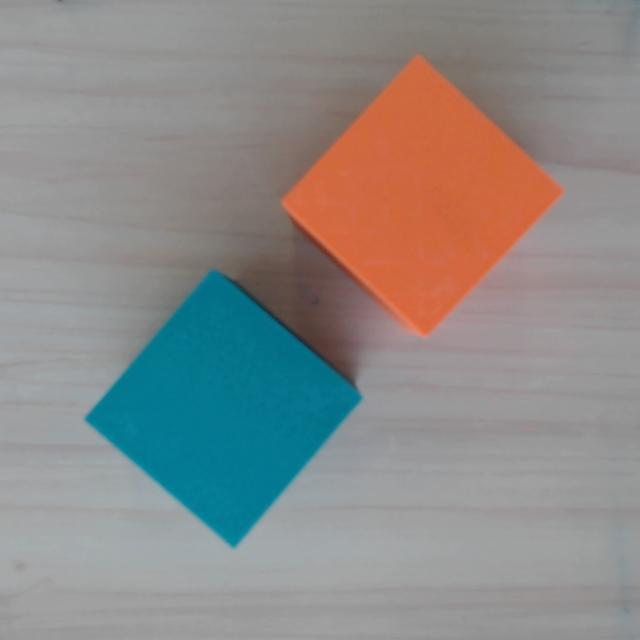Kubus-Hijau-505050: (82, 265, 365, 549)
Kubus-Jingga-505050: (274, 51, 566, 344)
